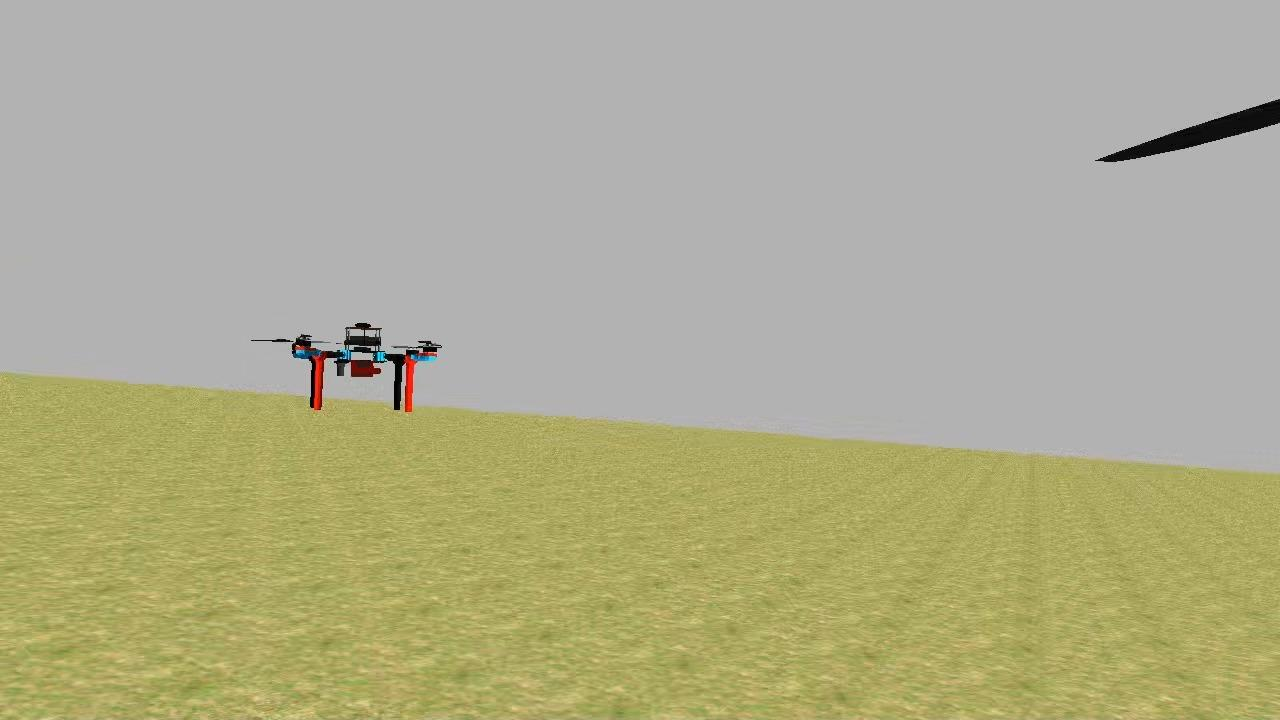UAV: (288, 314, 444, 420)
